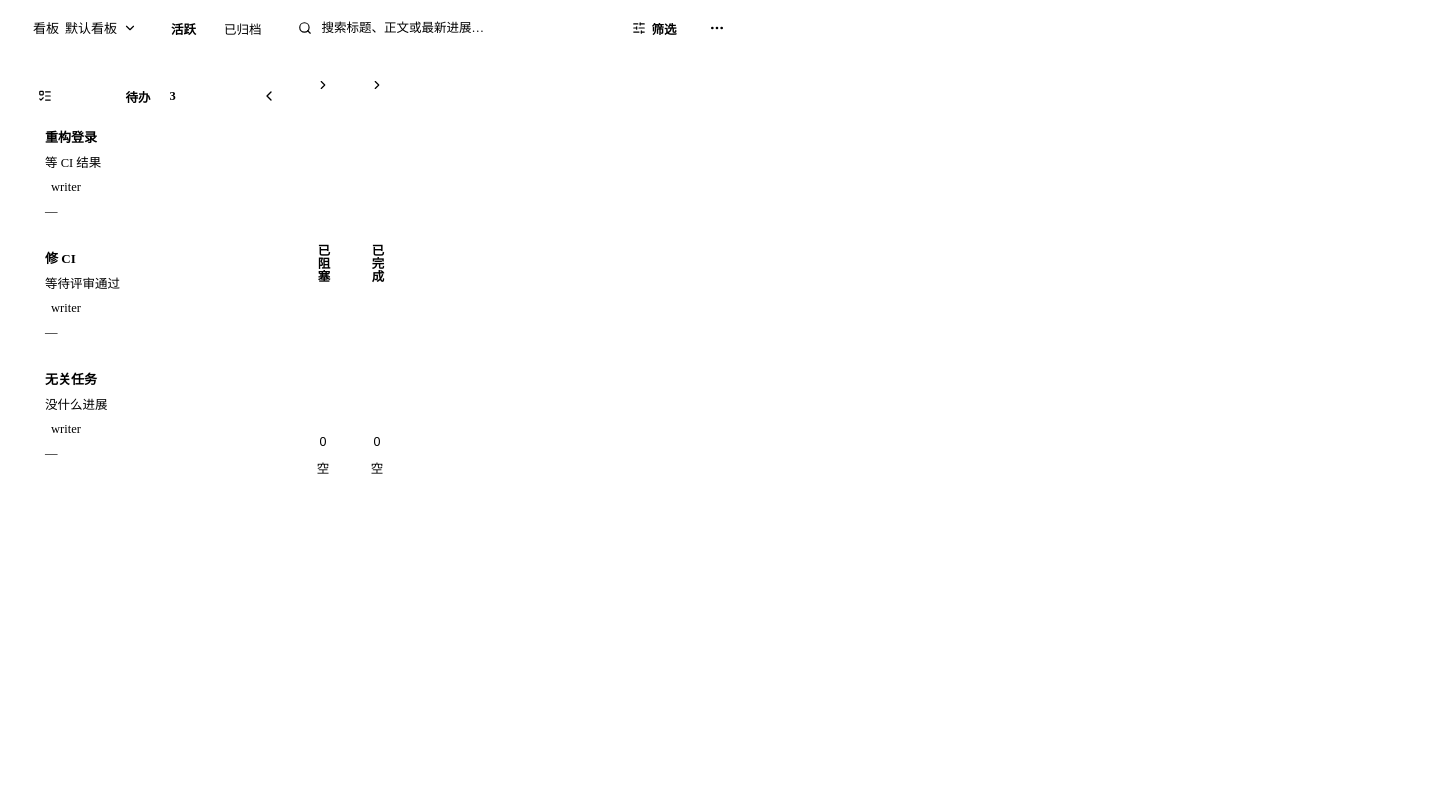
Scenario: KanbanRoute 精简后的入口 › 筛选收进面板，Esc 与再次点击都能收起设置弹框
Click the button "筛选". click: (654, 28)
box: left=620, top=12, right=689, bottom=44
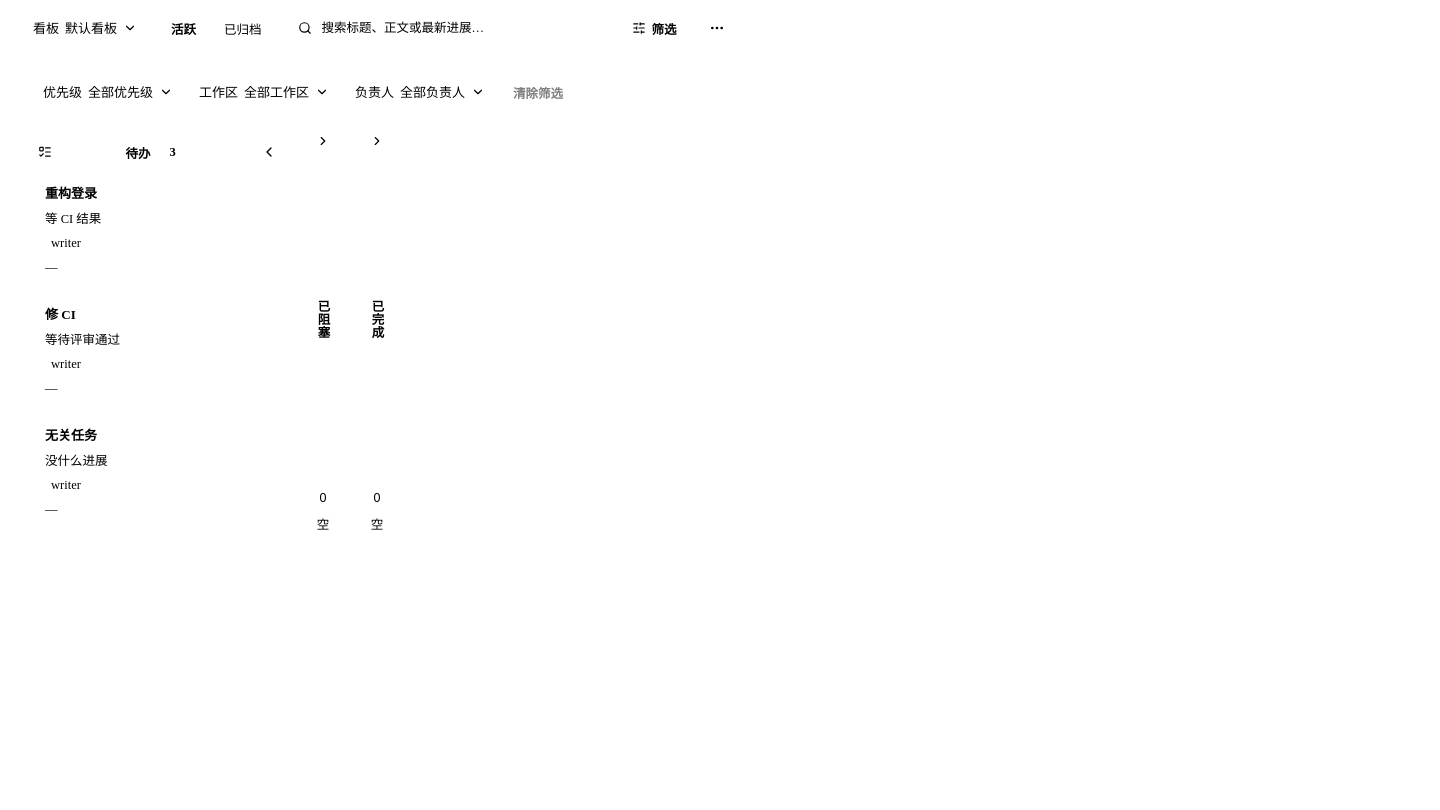
Result: the element named "筛选条件" shows "优先级" at left=33, top=76, right=181, bottom=108
Result: the element named "筛选条件" shows "工作区" at left=189, top=76, right=337, bottom=108
Result: the element named "筛选条件" shows "负责人" at left=345, top=76, right=493, bottom=108
Click the button "筛选". click: (654, 28)
box: left=620, top=12, right=689, bottom=44
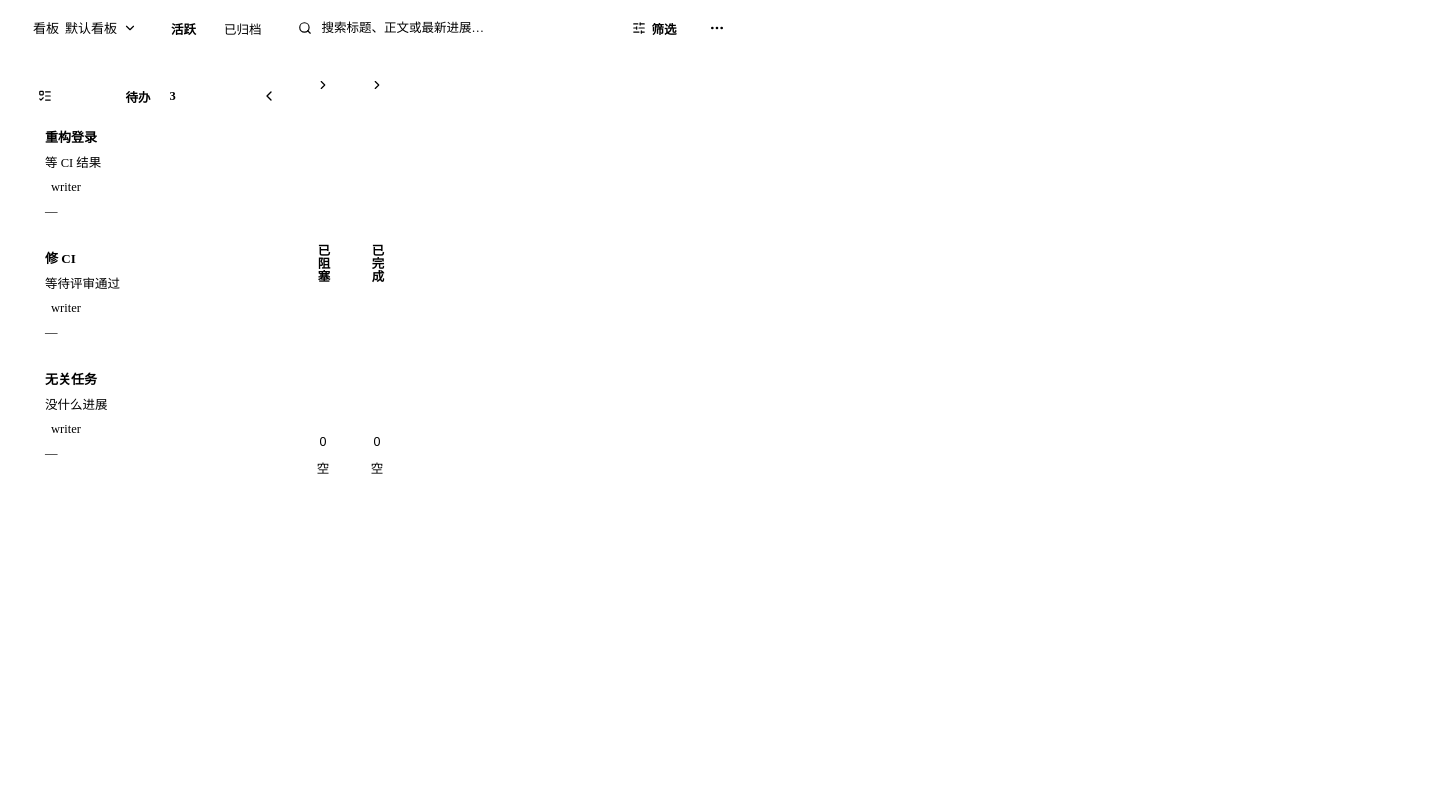
Result: the field labelled "筛选条件" is gone
Click the button named "更多操作". click: (717, 28)
box: left=701, top=12, right=733, bottom=44
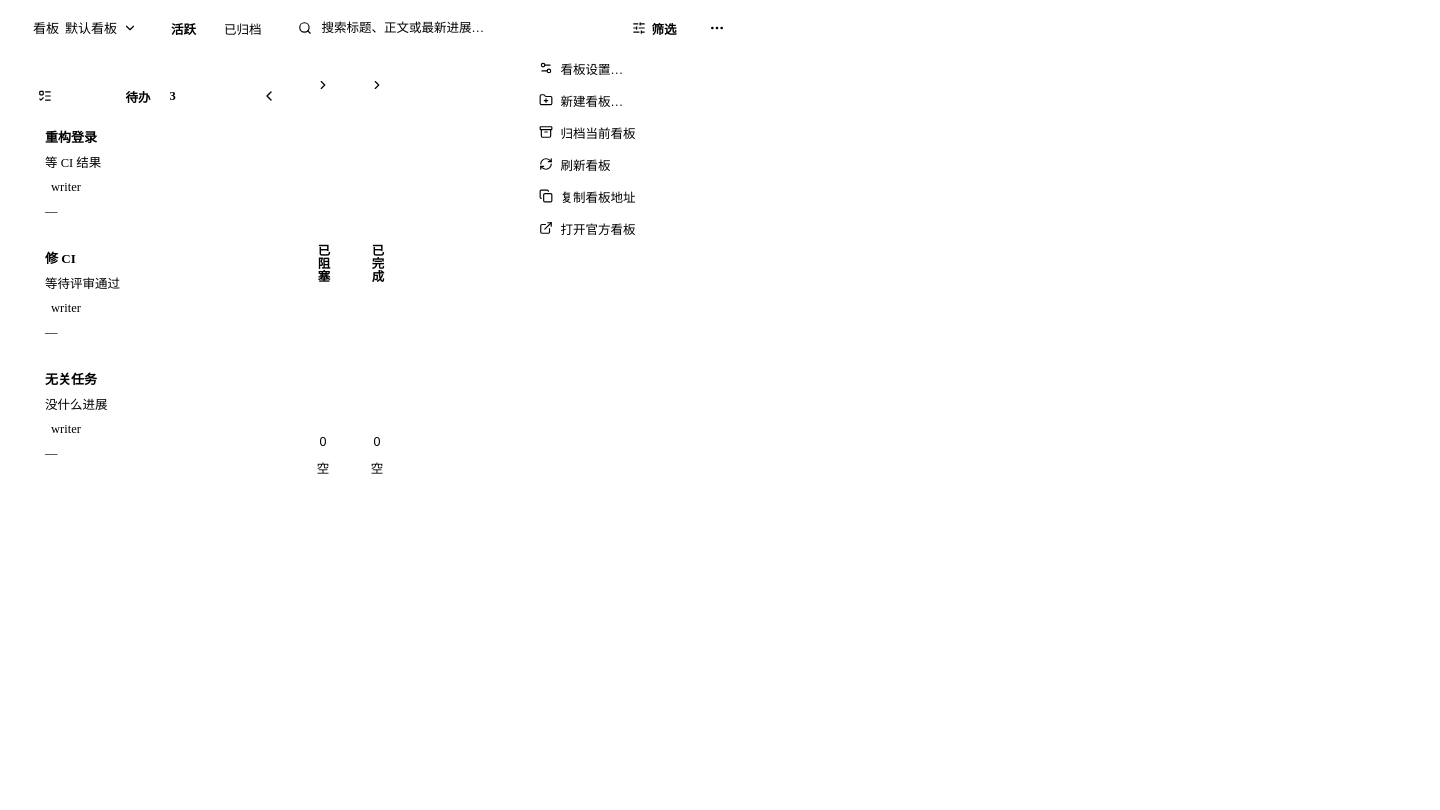
Click the menu item "看板设置…". click: (629, 68)
box: left=529, top=52, right=729, bottom=84
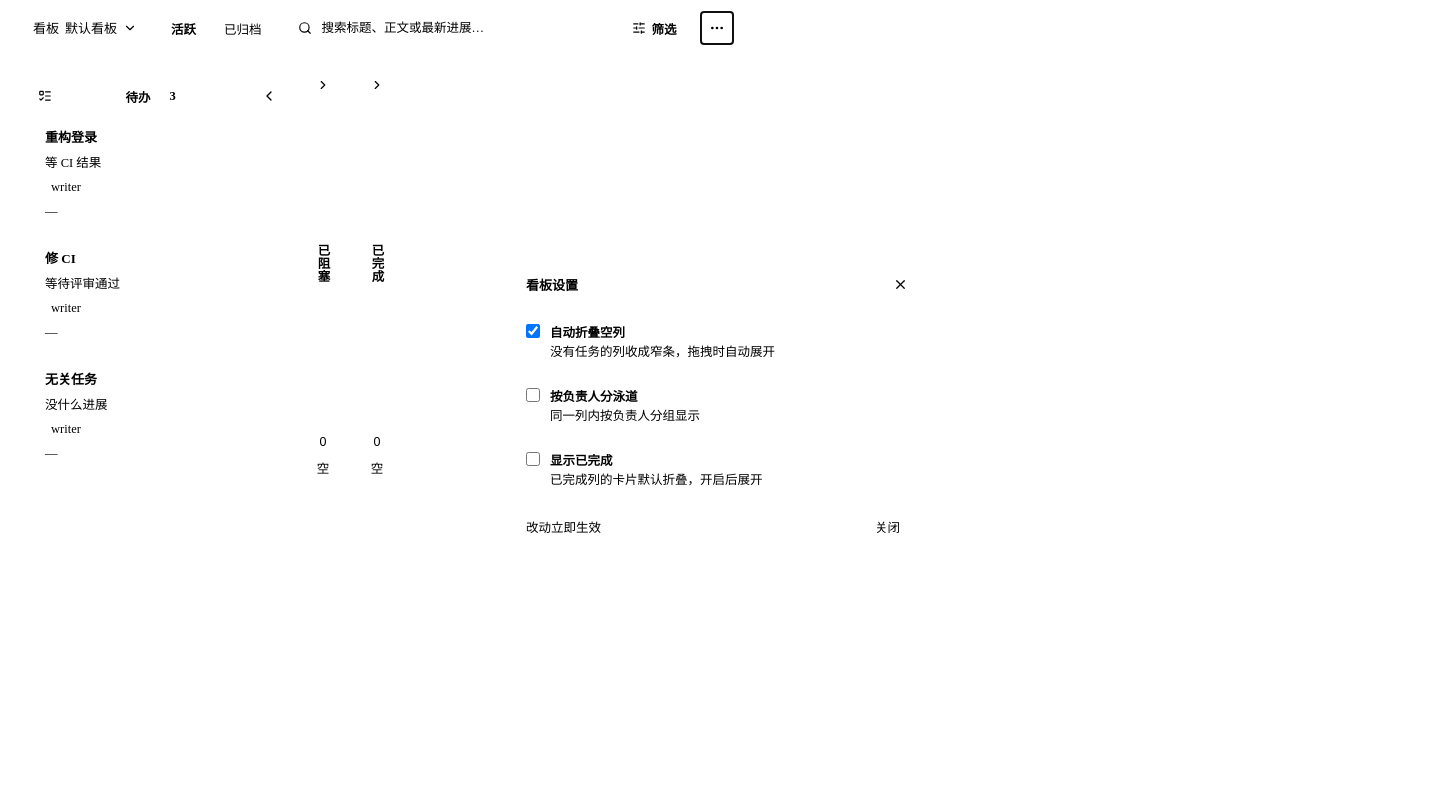
Result: the dialog labelled "看板设置" is shown at left=510, top=258, right=930, bottom=552
Press Escape
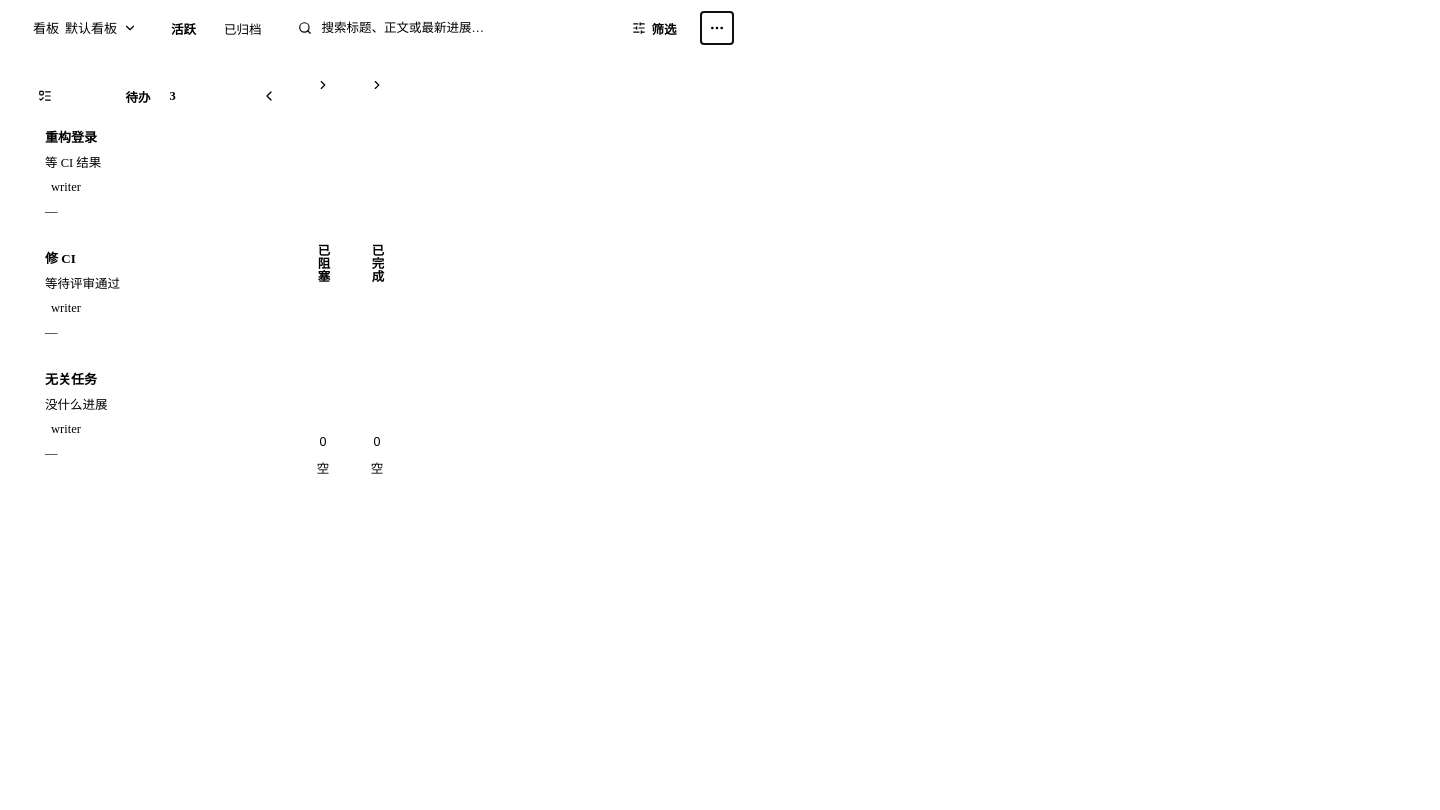
Result: the heading labelled "看板设置" is gone
